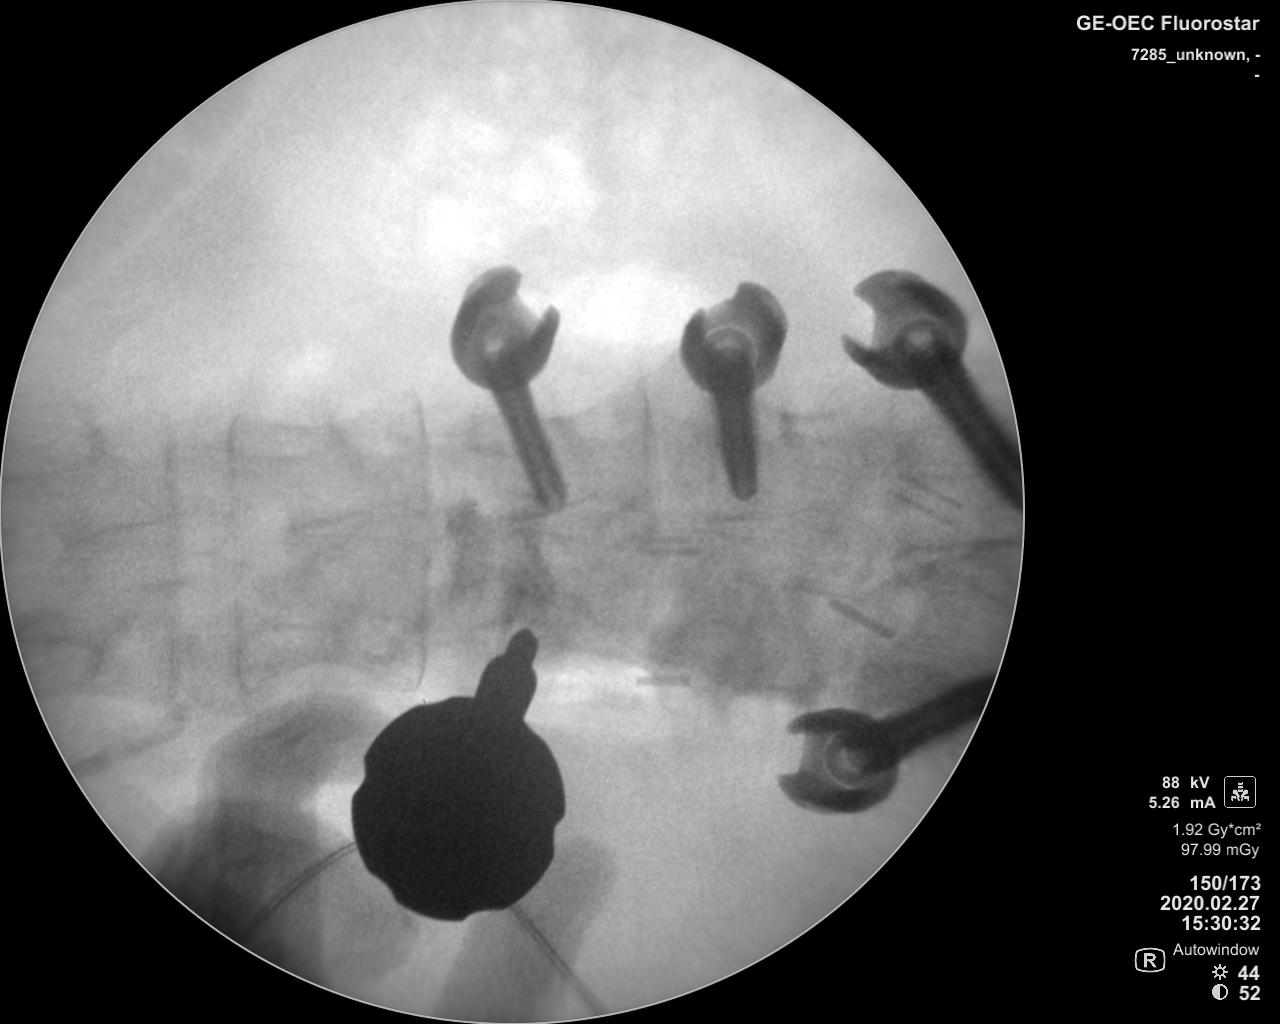eyes: (8, 411, 102, 486), (227, 415, 336, 463), (235, 623, 341, 670), (23, 636, 100, 692)
line: (154, 423, 189, 709), (220, 410, 249, 695), (408, 385, 433, 698)
nose: (289, 496, 456, 548), (80, 506, 230, 560), (501, 493, 657, 544)
